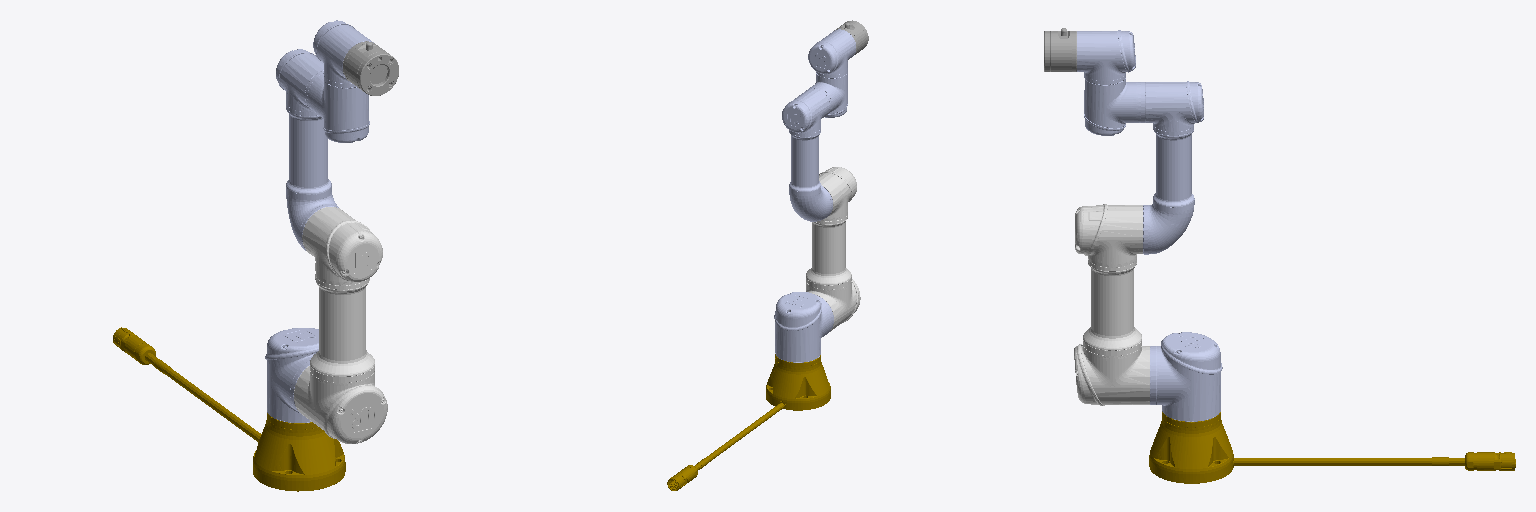
URDF robot description (ur3e_hslu):
<?xml version="1.0" encoding="utf-8"?>
<!-- This URDF was automatically created by SolidWorks to URDF Exporter! Originally created by [author] ([email redacted]) 
     Commit Version: 1.6.0-4-g7f85cfe  Build Version: 1.6.7995.38578
     For more information, please see http://wiki.ros.org/sw_urdf_exporter -->
<robot
  name="ur3e_hslu">
  <link
    name="base_link">
    <inertial>
      <origin
        xyz="-1.3743E-05 0.056888 0.049079"
        rpy="0 0 0" />
      <mass
        value="0.50618" />
      <inertia
        ixx="0.0010657"
        ixy="8.0314E-08"
        ixz="-4.5662E-07"
        iyy="0.00059278"
        iyz="5.3152E-06"
        izz="0.0011483" />
    </inertial>
    <visual>
      <origin
        xyz="0 0 0"
        rpy="0 0 0" />
      <geometry>
        <mesh
          filename="package://ur3e_hslu/meshes/base_link.STL" />
      </geometry>
      <material
        name="">
        <color
          rgba="0.64706 0.51765 0 1" />
      </material>
    </visual>
    <collision>
      <origin
        xyz="0 0 0"
        rpy="0 0 0" />
      <geometry>
        <mesh
          filename="package://ur3e_hslu/meshes/base_link.STL" />
      </geometry>
    </collision>
  </link>
  <link
    name="link1">
    <inertial>
      <origin
        xyz="-3.4798E-08 -0.0095496 0.056356"
        rpy="0 0 0" />
      <mass
        value="0.86046" />
      <inertia
        ixx="0.0014598"
        ixy="4.4924E-09"
        ixz="-6.3285E-09"
        iyy="0.0012461"
        iyz="3.3502E-05"
        izz="0.0011308" />
    </inertial>
    <visual>
      <origin
        xyz="0 0 0"
        rpy="0 0 0" />
      <geometry>
        <mesh
          filename="package://ur3e_hslu/meshes/link1.STL" />
      </geometry>
      <material
        name="">
        <color
          rgba="0.79216 0.81961 0.93333 1" />
      </material>
    </visual>
    <collision>
      <origin
        xyz="0 0 0"
        rpy="0 0 0" />
      <geometry>
        <mesh
          filename="package://ur3e_hslu/meshes/link1.STL" />
      </geometry>
    </collision>
  </link>
  <joint
    name="joint1"
    type="revolute">
    <origin
      xyz="0 0 0.09415"
      rpy="0 0 0" />
    <parent
      link="base_link" />
    <child
      link="link1" />
    <axis
      xyz="0 0 -1" />
    <limit
      lower="-6.283"
      upper="6.283"
      effort="56"
      velocity="3.1415" />
  </joint>
  <link
    name="link2">
    <inertial>
      <origin
        xyz="2.5154E-06 -0.10365 -0.05828"
        rpy="0 0 0" />
      <mass
        value="1.8626" />
      <inertia
        ixx="0.020245"
        ixy="9.3375E-07"
        ixz="1.3352E-07"
        iyy="0.0021333"
        iyz="-0.00038612"
        izz="0.019698" />
    </inertial>
    <visual>
      <origin
        xyz="0 0 0"
        rpy="0 0 0" />
      <geometry>
        <mesh
          filename="package://ur3e_hslu/meshes/link2.STL" />
      </geometry>
      <material
        name="">
        <color
          rgba="0.89804 0.89804 0.89804 1" />
      </material>
    </visual>
    <collision>
      <origin
        xyz="0 0 0"
        rpy="0 0 0" />
      <geometry>
        <mesh
          filename="package://ur3e_hslu/meshes/link2.STL" />
      </geometry>
    </collision>
  </link>
  <joint
    name="joint2"
    type="revolute">
    <origin
      xyz="0 -0.061905 0.0577"
      rpy="-1.5708 0 0" />
    <parent
      link="link1" />
    <child
      link="link2" />
    <axis
      xyz="0 0 1" />
    <limit
      lower="-6.283"
      upper="6.283"
      effort="56"
      velocity="3.1415" />
  </joint>
  <link
    name="link3">
    <inertial>
      <origin
        xyz="8.1848E-07 -0.11337 0.042041"
        rpy="0 0 0" />
      <mass
        value="0.88881" />
      <inertia
        ixx="0.0067787"
        ixy="-1.268E-07"
        ixz="3.7439E-08"
        iyy="0.0006017"
        iyz="0.00047432"
        izz="0.0066239" />
    </inertial>
    <visual>
      <origin
        xyz="0 0 0"
        rpy="0 0 0" />
      <geometry>
        <mesh
          filename="package://ur3e_hslu/meshes/link3.STL" />
      </geometry>
      <material
        name="">
        <color
          rgba="0.79216 0.81961 0.93333 1" />
      </material>
    </visual>
    <collision>
      <origin
        xyz="0 0 0"
        rpy="0 0 0" />
      <geometry>
        <mesh
          filename="package://ur3e_hslu/meshes/link3.STL" />
      </geometry>
    </collision>
  </link>
  <joint
    name="joint3"
    type="revolute">
    <origin
      xyz="0 -0.24355 -0.011845"
      rpy="0 0 0" />
    <parent
      link="link2" />
    <child
      link="link3" />
    <axis
      xyz="0 0 1" />
    <limit
      lower="-3.1415"
      upper="3.1415"
      effort="28"
      velocity="3.1415" />
  </joint>
  <link
    name="link4">
    <inertial>
      <origin
        xyz="3.9231E-05 -3.4311E-08 -0.047231"
        rpy="0 0 0" />
      <mass
        value="0.37503" />
      <inertia
        ixx="0.00031631"
        ixy="2.5814E-09"
        ixz="2.3861E-06"
        iyy="0.00041174"
        iyz="-2.67E-09"
        izz="0.00028818" />
    </inertial>
    <visual>
      <origin
        xyz="0 0 0"
        rpy="0 0 0" />
      <geometry>
        <mesh
          filename="package://ur3e_hslu/meshes/link4.STL" />
      </geometry>
      <material
        name="">
        <color
          rgba="0.79216 0.81961 0.93333 1" />
      </material>
    </visual>
    <collision>
      <origin
        xyz="0 0 0"
        rpy="0 0 0" />
      <geometry>
        <mesh
          filename="package://ur3e_hslu/meshes/link4.STL" />
      </geometry>
    </collision>
  </link>
  <joint
    name="joint4"
    type="revolute">
    <origin
      xyz="0 -0.2132 0.0024267"
      rpy="0 0 -1.5708" />
    <parent
      link="link3" />
    <child
      link="link4" />
    <axis
      xyz="0 0 1" />
    <limit
      lower="-6.283"
      upper="6.283"
      effort="12"
      velocity="6.283" />
  </joint>
  <link
    name="link5">
    <inertial>
      <origin
        xyz="1.9813E-07 3.0446E-05 0.03716"
        rpy="0 0 0" />
      <mass
        value="0.31687" />
      <inertia
        ixx="0.00029035"
        ixy="-2.031E-11"
        ixz="5.8637E-10"
        iyy="0.00019479"
        iyz="-2.336E-06"
        izz="0.00025946" />
    </inertial>
    <visual>
      <origin
        xyz="0 0 0"
        rpy="0 0 0" />
      <geometry>
        <mesh
          filename="package://ur3e_hslu/meshes/link5.STL" />
      </geometry>
      <material
        name="">
        <color
          rgba="0.79216 0.81961 0.93333 1" />
      </material>
    </visual>
    <collision>
      <origin
        xyz="0 0 0"
        rpy="0 0 0" />
      <geometry>
        <mesh
          filename="package://ur3e_hslu/meshes/link5.STL" />
      </geometry>
    </collision>
  </link>
  <joint
    name="joint5"
    type="revolute">
    <origin
      xyz="0.0429 0 -0.059727"
      rpy="-1.5708 0 -1.5708" />
    <parent
      link="link4" />
    <child
      link="link5" />
    <axis
      xyz="0 0 -1" />
    <limit
      lower="-6.283"
      upper="6.283"
      effort="12"
      velocity="6.283" />
  </joint>
  <link
    name="link6">
    <inertial>
      <origin
        xyz="1.0603E-10 0.00015383 0.025352"
        rpy="0 0 0" />
      <mass
        value="0.14596" />
      <inertia
        ixx="6.3031E-05"
        ixy="1.0429E-12"
        ixz="-4.1341E-13"
        iyy="6.3595E-05"
        iyz="3.6155E-08"
        izz="7.2803E-05" />
    </inertial>
    <visual>
      <origin
        xyz="0 0 0"
        rpy="0 0 0" />
      <geometry>
        <mesh
          filename="package://ur3e_hslu/meshes/link6.STL" />
      </geometry>
      <material
        name="">
        <color
          rgba="0.69804 0.69804 0.69804 1" />
      </material>
    </visual>
    <collision>
      <origin
        xyz="0 0 0"
        rpy="0 0 0" />
      <geometry>
        <mesh
          filename="package://ur3e_hslu/meshes/link6.STL" />
      </geometry>
    </collision>
  </link>
  <joint
    name="joint6"
    type="revolute">
    <origin
      xyz="0 0.0921 0.04245"
      rpy="-1.5708 0 -3.1416" />
    <parent
      link="link5" />
    <child
      link="link6" />
    <axis
      xyz="0 0 -1" />
    <limit
      lower="-6.283"
      upper="6.283"
      effort="12"
      velocity="6.283" />
  </joint>
</robot>

--- Facts derived from the render (not from the file) ---
Views: 3 orthographic renders of the robot side by side, from view 1: azimuth 30°, elevation 25°; view 2: azimuth 150°, elevation 25°; view 3: azimuth 270°, elevation 25°.
Robot: ur3e_hslu — 7 links, 6 joints (6 revolute); root link base_link; default pose: all joints at 0.
Links seen in each view (by area): view 1: link2, base_link, link3, link1, link4, link6, link5; view 2: link2, link3, base_link, link1, link5, link4; view 3: link2, base_link, link3, link1, link4, link5, link6.
Boxes of the visible links, box(x1,y1,x2,y2) form: link2: box(294, 207, 387, 443); base_link: box(113, 327, 345, 491); link3: box(276, 49, 338, 250); link1: box(265, 328, 318, 422); link4: box(305, 71, 369, 142); link6: box(343, 41, 398, 95); link5: box(313, 20, 373, 87); link2: box(806, 167, 860, 331); link3: box(782, 88, 832, 221); base_link: box(667, 354, 830, 490); link1: box(774, 292, 833, 362); link5: box(808, 29, 855, 78); link4: box(809, 73, 847, 117); link2: box(1074, 204, 1149, 405); base_link: box(1149, 412, 1515, 483); link3: box(1143, 81, 1203, 254); link1: box(1150, 332, 1222, 421); link4: box(1084, 77, 1144, 135); link5: box(1077, 30, 1135, 84); link6: box(1044, 28, 1076, 71).
Size in the robot's own frame: 0.1279 by 0.7146 by 0.7385 metres.
Meshes: 7 distinct files referenced, 7 mesh visuals loaded (7 binary STL).